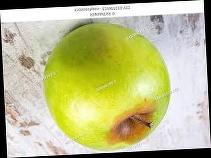rotten apple: (38, 20, 173, 153)
